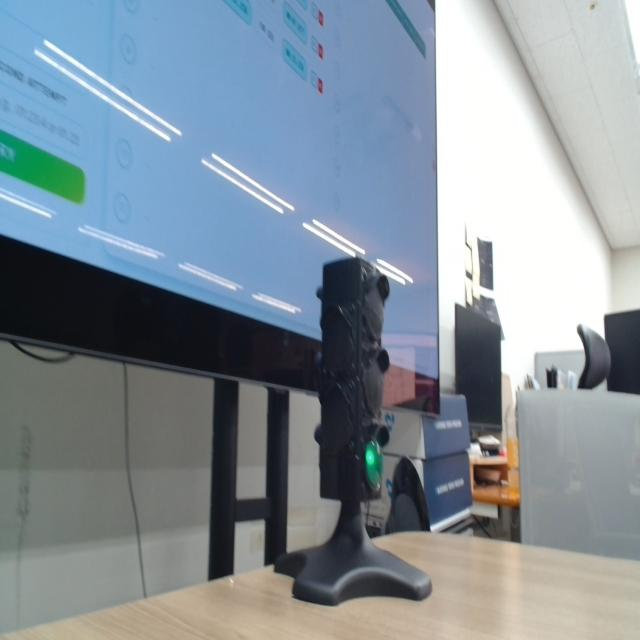green_light: (365, 441, 382, 490)
